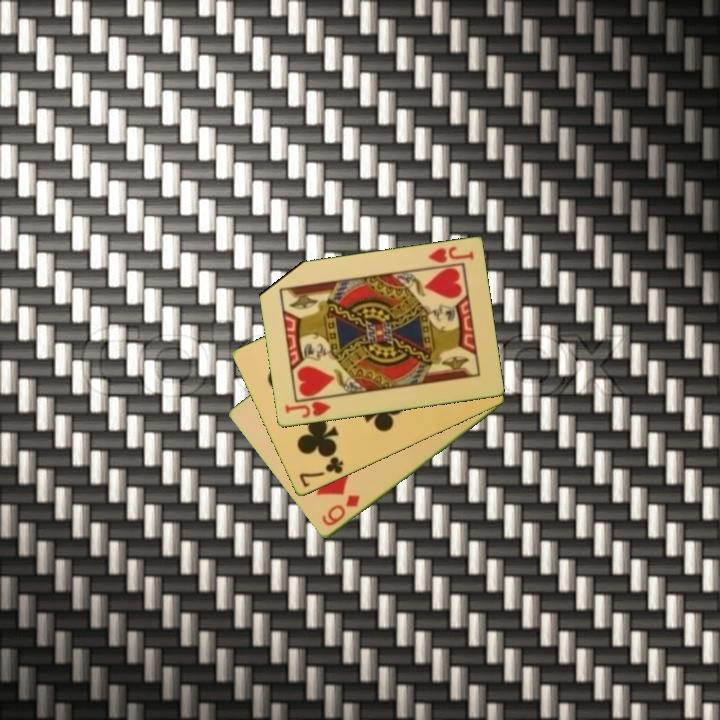6d: (318, 492, 363, 529)
7c: (295, 453, 346, 491)
Jh: (281, 394, 336, 421), (424, 243, 477, 266)
